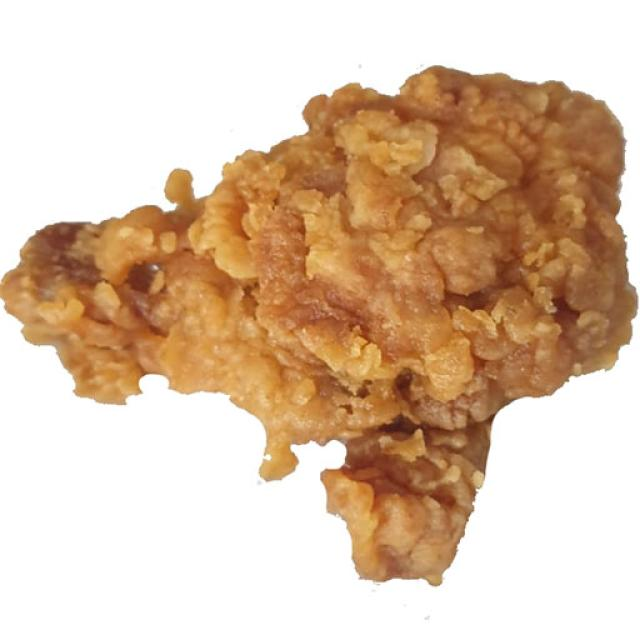Frango: (31, 70, 624, 477)
